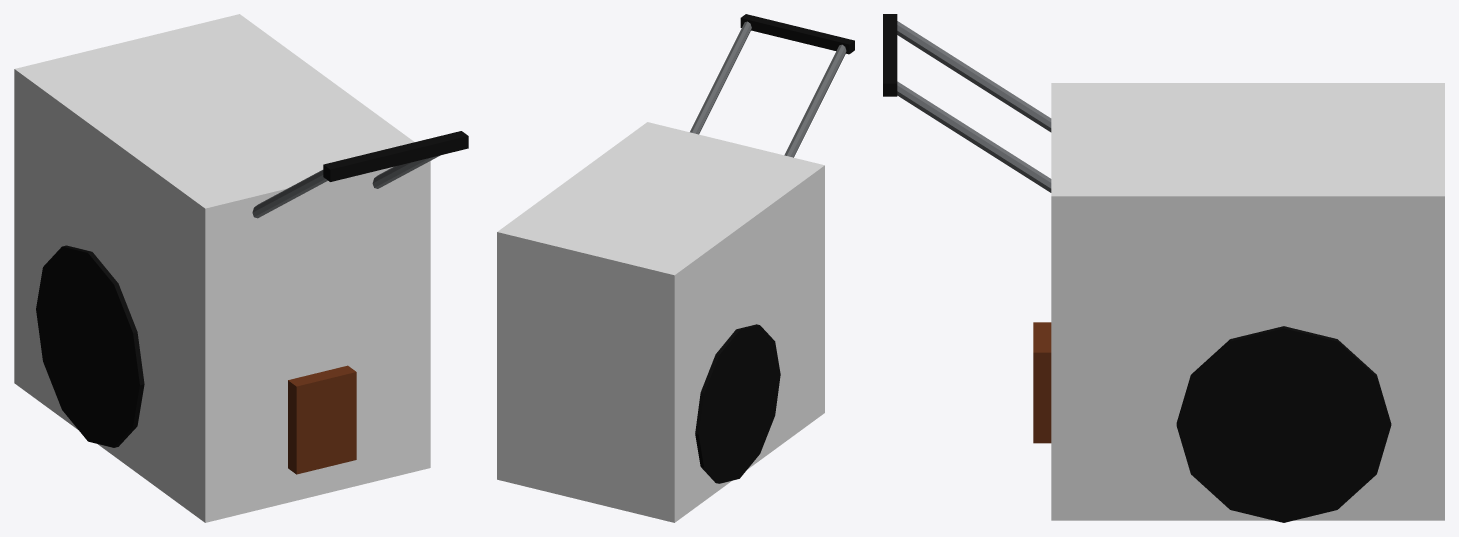
Rendered from Tiller.fbx.
3 views of the same model, side by side, from view 1: azimuth 30°, elevation 25°; view 2: azimuth 150°, elevation 25°; view 3: azimuth 270°, elevation 25° (orthographic). The views are drawn at different scales.
Parts seen in each view (by area): view 1: COL_Tiller_0, Tiller; view 2: COL_Tiller_0, Tiller; view 3: COL_Tiller_0, Tiller.
Part boxes in pixels (x1,y1,x2,y2): COL_Tiller_0: (14,14,430,522); Tiller: (36,131,468,474); COL_Tiller_0: (497,122,824,522); Tiller: (690,14,854,483); COL_Tiller_0: (1051,83,1444,520); Tiller: (883,14,1391,522).
Size of the model in its own units: 0.78 by 1.28 by 1.57.
